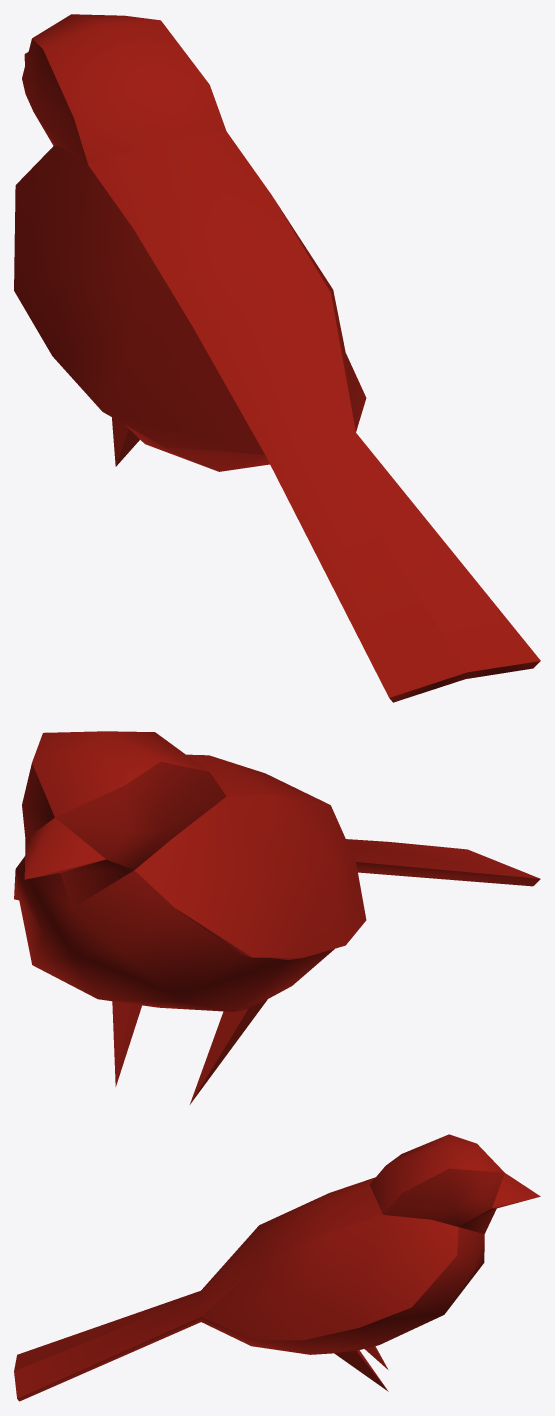
Rendered from birdinunder10mins.obj.
3 renders of one model, top to bottom at view 1: azimuth 30°, elevation 25°; view 2: azimuth 150°, elevation 25°; view 3: azimuth 270°, elevation 25°, orthographic. The views are drawn at different scales.
Visible parts, largest first — view 1: bird; view 2: bird; view 3: bird.
Part boxes in pixels (<box>): bird: <box>14,14,540,702</box>; bird: <box>14,731,540,1104</box>; bird: <box>14,1134,540,1401</box>.
Size of the model in its own units: 0.1371 by 0.2092 by 0.4202.
